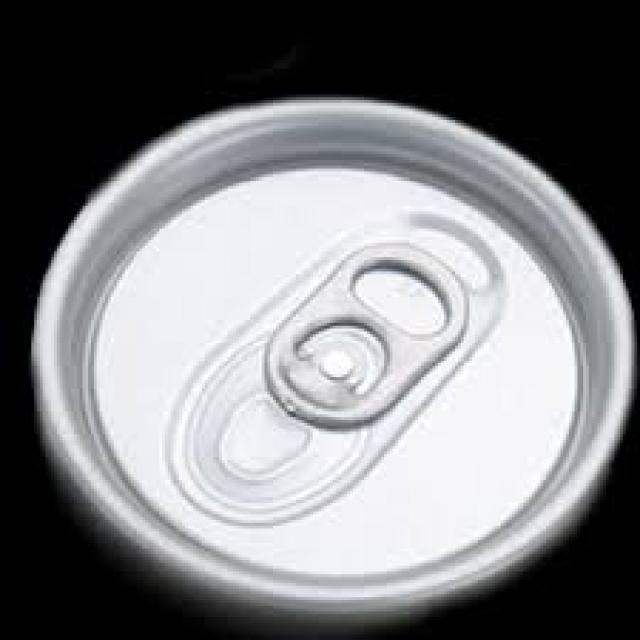recyclable: (31, 96, 630, 617)
